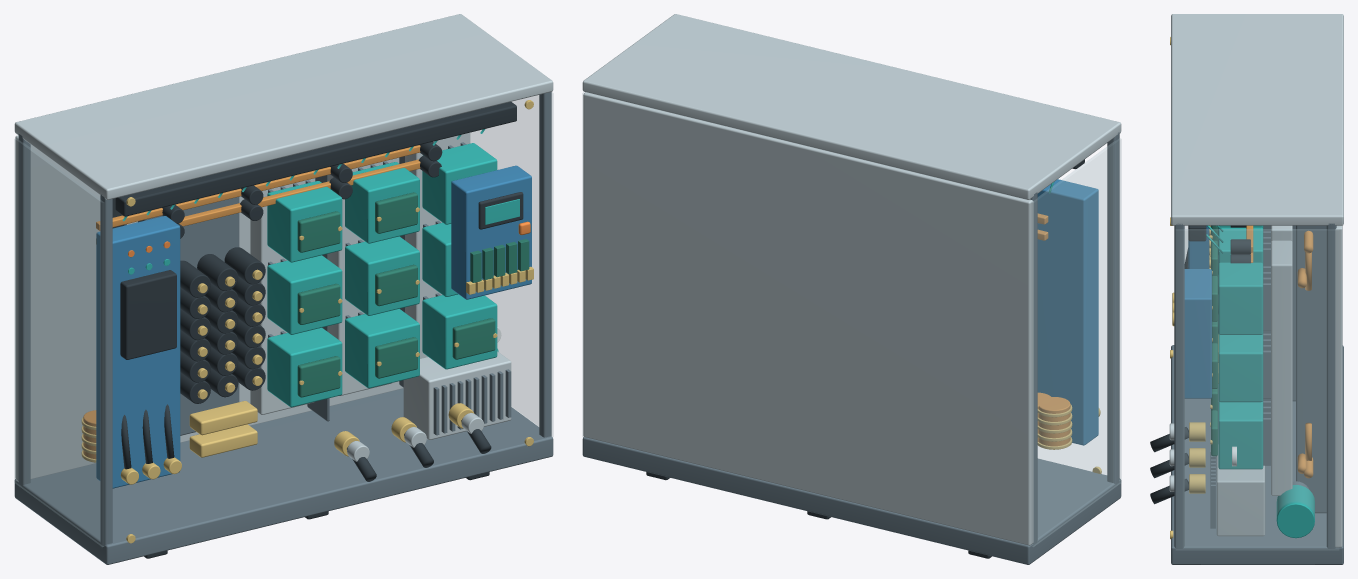
The model's file is marine_drive.glb.
3 renders of one model, left to right at view 1: azimuth 30°, elevation 25°; view 2: azimuth 150°, elevation 25°; view 3: azimuth 270°, elevation 25°, orthographic. The views are drawn at different scales.
Parts seen in each view (by area): view 1: 01_Cabinet_Roof, 01_Cabinet_Base, 01_Cabinet_GhostSide, 01_Cabinet_Back, 02_InputStage_Panel, 01_Cabinet_GhostSide.001, 06_Control_WiringTray, 06_Control_Cabinet, 02_InputStage_Switchgear, 01_Cabinet_Upright, 01_Cabinet_InnerUpright, 05_Cooling_HeatExchanger (+29 smaller); view 2: 01_Cabinet_Back, 01_Cabinet_Roof, 01_Cabinet_GhostSide, 01_Cabinet_Base, 02_InputStage_Panel, 01_Cabinet_Upright, 01_Cabinet_InnerUpright, 02_InputStage_LineReactor; view 3: 01_Cabinet_GhostSide.001, 01_Cabinet_Roof, 01_Cabinet_Base, 01_Cabinet_Divider.003, 04_Inverter_CoolingPlate.002, 06_Control_Cabinet, 01_Cabinet_Upright.001, 05_Cooling_HeatExchanger, 04_Inverter_IGBTModule.008, 01_Cabinet_InnerUpright.001, 04_Inverter_IGBTModule.007, 04_Inverter_IGBTModule.006 (+22 smaller).
Part boxes in pixels (<box>): 01_Cabinet_Roof: <box>14,14,553,199</box>; 01_Cabinet_Base: <box>14,388,553,564</box>; 01_Cabinet_GhostSide: <box>14,138,103,546</box>; 01_Cabinet_Back: <box>15,135,403,481</box>; 02_InputStage_Panel: <box>96,216,180,488</box>; 01_Cabinet_GhostSide.001: <box>470,92,553,436</box>; 06_Control_WiringTray: <box>115,102,516,216</box>; 06_Control_Cabinet: <box>451,165,531,299</box>; 02_InputStage_Switchgear: <box>120,270,176,359</box>; 01_Cabinet_Upright: <box>100,194,112,549</box>; 01_Cabinet_InnerUpright: <box>18,134,30,489</box>; 05_Cooling_HeatExchanger: <box>403,351,511,439</box>; 01_Cabinet_Back: <box>583,92,1033,545</box>; 01_Cabinet_Roof: <box>582,14,1121,199</box>; 01_Cabinet_GhostSide: <box>1032,138,1121,546</box>; 01_Cabinet_Base: <box>582,437,1121,564</box>; 02_InputStage_Panel: <box>1037,179,1098,445</box>; 01_Cabinet_Upright: <box>1107,132,1119,486</box>; 01_Cabinet_InnerUpright: <box>1030,192,1037,548</box>; 02_InputStage_LineReactor: <box>1038,397,1070,449</box>; 01_Cabinet_GhostSide.001: <box>1176,229,1338,549</box>; 01_Cabinet_Roof: <box>1171,14,1343,225</box>; 01_Cabinet_Base: <box>1171,345,1343,564</box>; 01_Cabinet_Divider.003: <box>1296,225,1326,513</box>; 04_Inverter_CoolingPlate.002: <box>1271,240,1292,495</box>; 06_Control_Cabinet: <box>1184,269,1211,398</box>; 01_Cabinet_Upright.001: <box>1174,223,1184,551</box>; 05_Cooling_HeatExchanger: <box>1216,444,1265,536</box>; 04_Inverter_IGBTModule.008: <box>1218,262,1263,334</box>; 01_Cabinet_InnerUpright.001: <box>1326,223,1336,549</box>; 04_Inverter_IGBTModule.007: <box>1218,333,1263,402</box>; 04_Inverter_IGBTModule.006: <box>1218,400,1263,469</box>.
Bounding box in the file's own units: 3.8 × 3.14 × 1.51.
